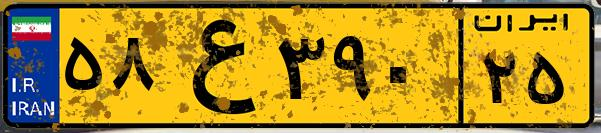0: (385, 28, 445, 110)
2: (475, 38, 525, 113)
3: (270, 28, 330, 110)
5: (57, 26, 110, 100), (525, 38, 570, 115)
8: (110, 28, 158, 98)
9: (330, 28, 385, 110)
ع: (158, 12, 270, 120)
